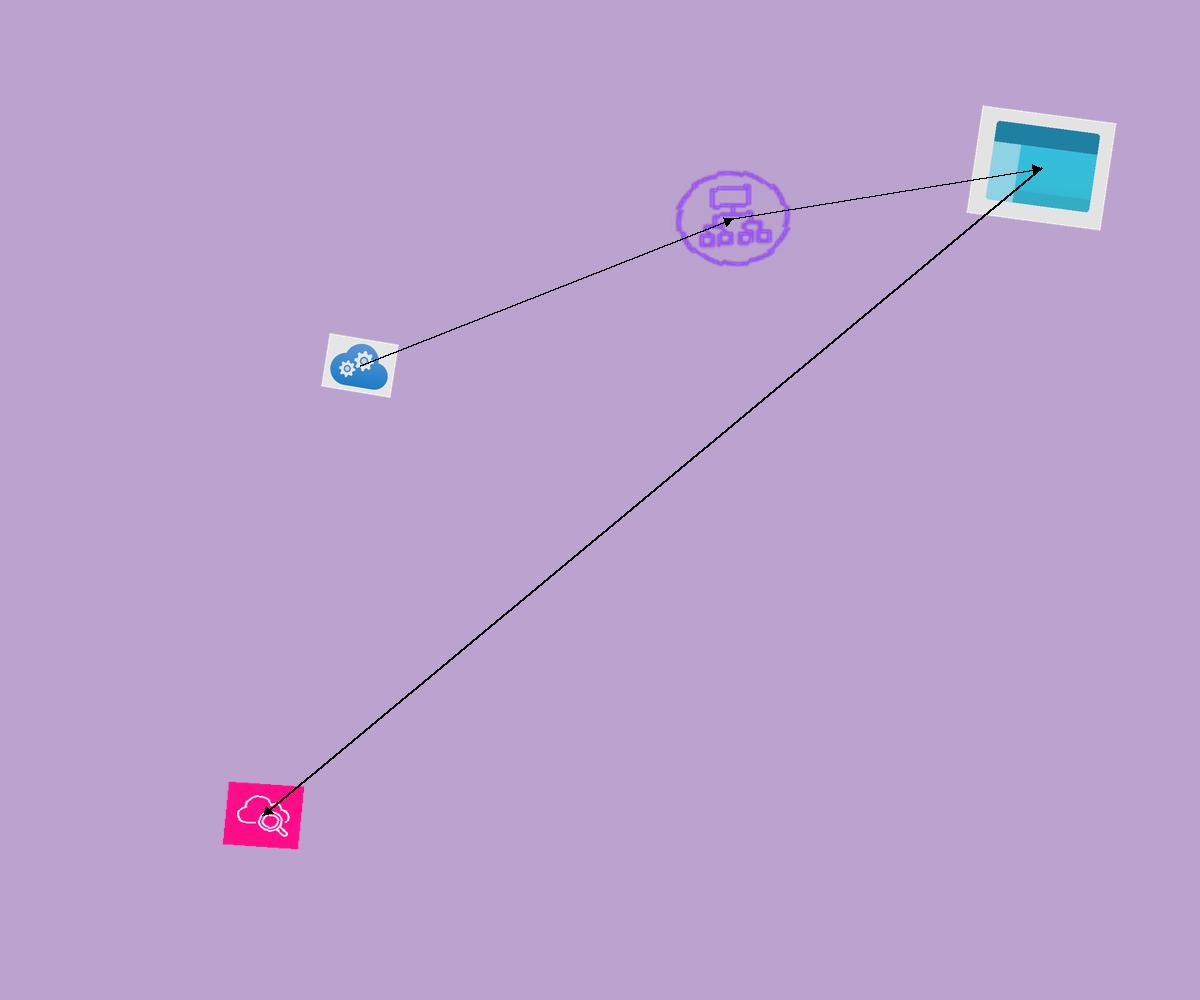AWS-CloudWatch: (222, 781, 305, 850)
AWS-Res_Elastic-Load-Balancing_Application-Load-Balancer: (663, 160, 803, 277)
Azure_cloud_services: (321, 333, 399, 398)
Azure_management-portal: (966, 105, 1117, 231)
